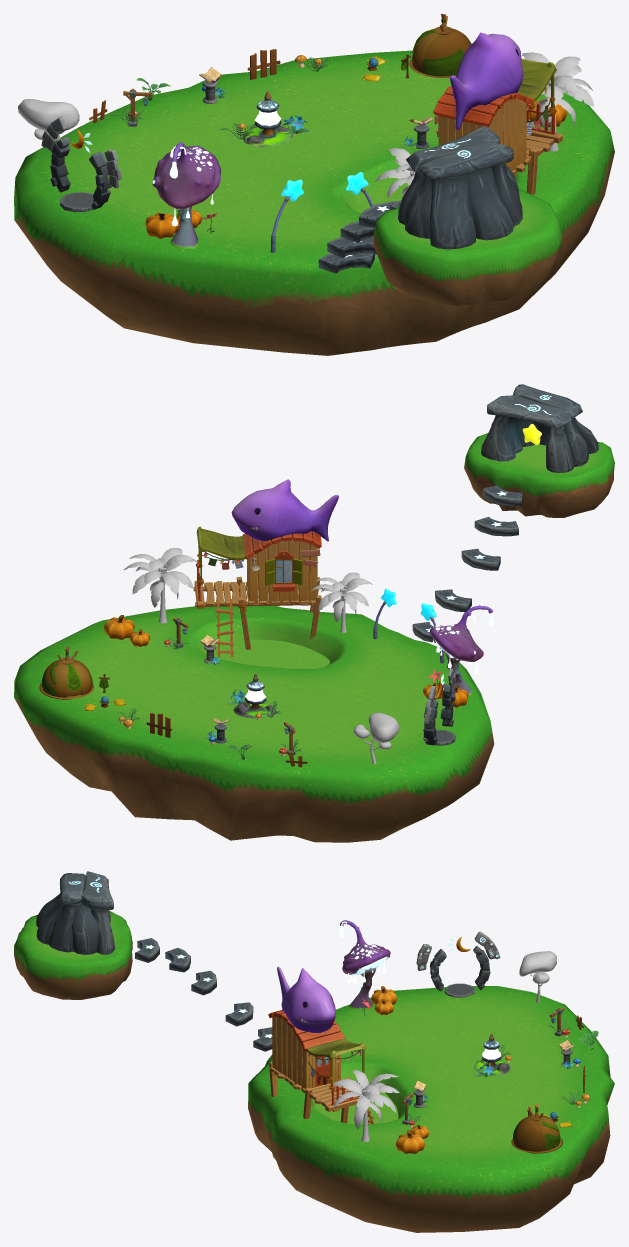
3 views of the same model, one above another, from view 1: azimuth 30°, elevation 25°; view 2: azimuth 150°, elevation 25°; view 3: azimuth 270°, elevation 25° (orthographic). The views are drawn at different scales.
Parts seen in each view (by area): view 1: Land13, L1__1_, Cave02, FishHut, Magictree, Portal01, Tent02, PalmTree01, LampMini, Tree02__1_, PalmTree01__1_, CaveStair01__3_ (+7 smaller); view 2: Land13, FishHut, L1__1_, Cave02, PalmTree01, Magictree, Tent02, Portal01, PalmTree01__1_, Tree02__1_, LampMini, CaveStair01__1_ (+2 smaller); view 3: Land13, FishHut, L1__1_, Cave02, Portal01, Magictree, PalmTree01, Tent02, Tree02__1_, LampMini, Pumpkin__3_, CaveStair01__4_.
Boxes of the visible parts, left/top/right/bottom form: Land13: left=14, top=50, right=614, bottom=355; L1__1_: left=373, top=189, right=561, bottom=305; Cave02: left=398, top=126, right=522, bottom=249; FishHut: left=433, top=32, right=562, bottom=194; Magictree: left=152, top=142, right=220, bottom=249; Portal01: left=41, top=116, right=121, bottom=212; Tent02: left=409, top=14, right=471, bottom=77; PalmTree01: left=522, top=52, right=594, bottom=151; LampMini: left=243, top=91, right=293, bottom=147; Tree02__1_: left=18, top=99, right=79, bottom=141; PalmTree01__1_: left=375, top=148, right=415, bottom=197; CaveStair01__3_: left=318, top=253, right=374, bottom=273; Land13: left=14, top=606, right=494, bottom=842; FishHut: left=193, top=479, right=338, bottom=657; L1__1_: left=464, top=433, right=614, bottom=517; Cave02: left=481, top=384, right=598, bottom=472; PalmTree01: left=123, top=548, right=197, bottom=623; Magictree: left=429, top=603, right=493, bottom=696; Tent02: left=39, top=646, right=94, bottom=699; Portal01: left=423, top=668, right=456, bottom=745; PalmTree01__1_: left=311, top=572, right=372, bottom=632; Tree02__1_: left=353, top=712, right=399, bottom=764; LampMini: left=233, top=674, right=277, bottom=718; CaveStair01__1_: left=474, top=517, right=518, bottom=536; Land13: left=248, top=986, right=614, bottom=1232; FishHut: left=268, top=966, right=375, bottom=1124; L1__1_: left=14, top=911, right=132, bottom=999; Cave02: left=36, top=871, right=114, bottom=954; Portal01: left=416, top=931, right=500, bottom=997; Magictree: left=339, top=920, right=390, bottom=1009; PalmTree01: left=331, top=1070, right=399, bottom=1141; Tent02: left=511, top=1103, right=562, bottom=1153; Tree02__1_: left=519, top=951, right=556, bottom=1002; LampMini: left=474, top=1033, right=510, bottom=1075; Pumpkin__3_: left=395, top=1130, right=425, bottom=1153; CaveStair01__4_: left=225, top=1002, right=253, bottom=1026.
Bounding box in the file's own units: 427 × 234 × 543.
